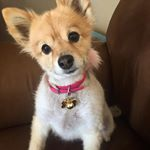puppy: (1, 1, 122, 150)
